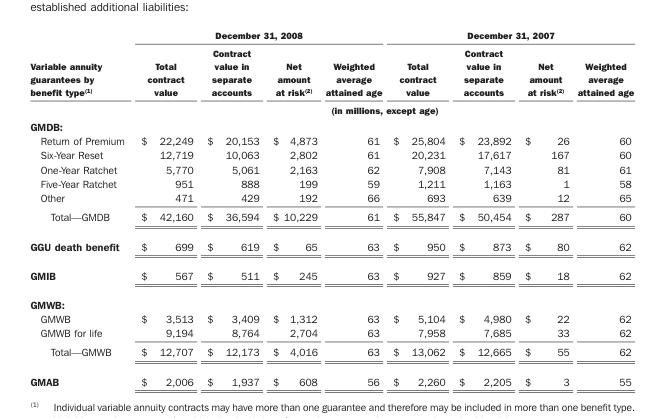table: (29, 29, 633, 386)
table column: (29, 29, 132, 386), (132, 29, 199, 386), (199, 29, 265, 386), (320, 29, 386, 386), (451, 29, 517, 386), (386, 29, 451, 386), (572, 29, 633, 386), (265, 29, 320, 386), (517, 29, 572, 386)
table column header: (29, 29, 633, 117)
table projected row header: (29, 289, 633, 310), (29, 117, 633, 133)
table row: (29, 43, 633, 100), (29, 231, 633, 260), (29, 260, 633, 289), (29, 206, 633, 231), (29, 342, 633, 366), (29, 289, 633, 310), (29, 366, 633, 386), (29, 100, 633, 117), (29, 325, 633, 342), (29, 117, 633, 133), (29, 190, 633, 206), (29, 175, 633, 190), (29, 310, 633, 325), (29, 29, 633, 43), (29, 133, 633, 147), (29, 147, 633, 161), (29, 161, 633, 175)
table spanning cell: (29, 29, 132, 117), (132, 100, 633, 117), (132, 29, 386, 43), (386, 29, 633, 43)
